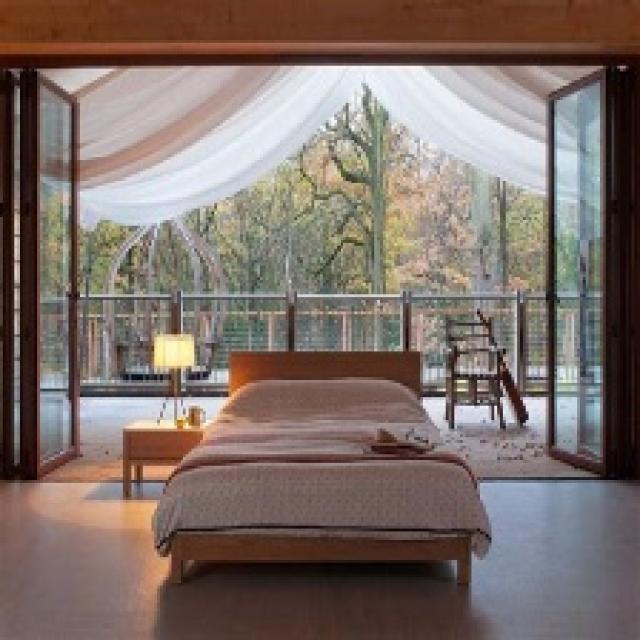Bed: (152, 348, 488, 586)
